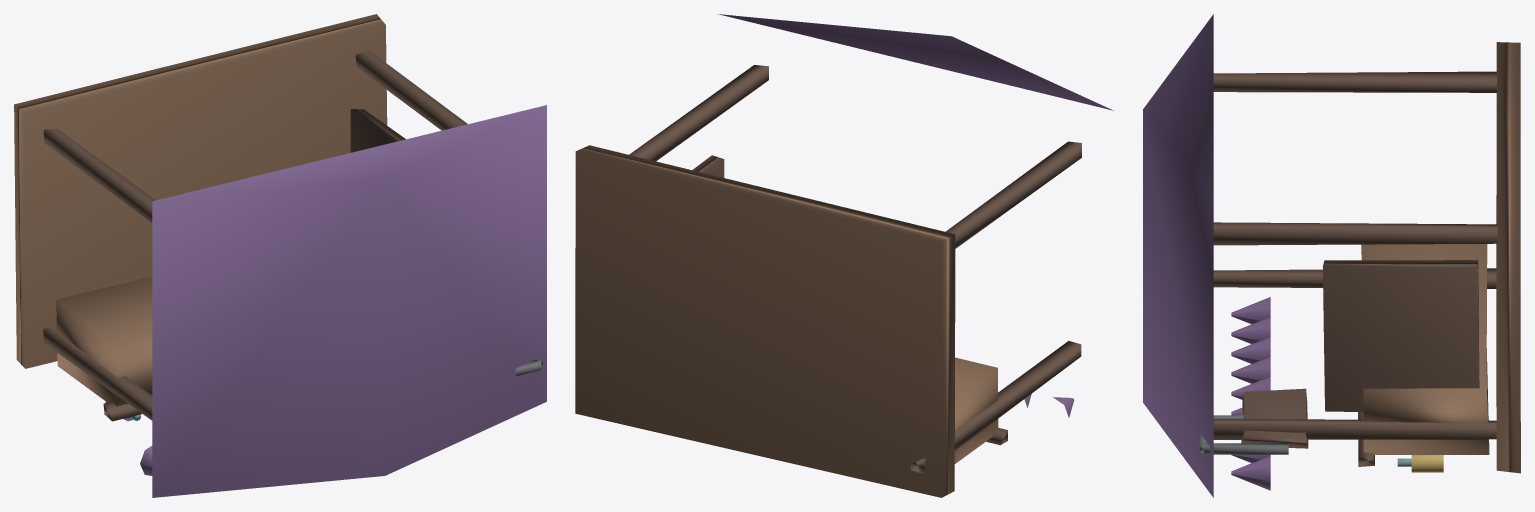
Rendered from potion_stall_hd.glb.
3 views of the same model, side by side, from view 1: azimuth 30°, elevation 25°; view 2: azimuth 150°, elevation 25°; view 3: azimuth 270°, elevation 25° (orthographic).
Bounding box in the file's own units: 4.8 × 3.62 × 4.02.
